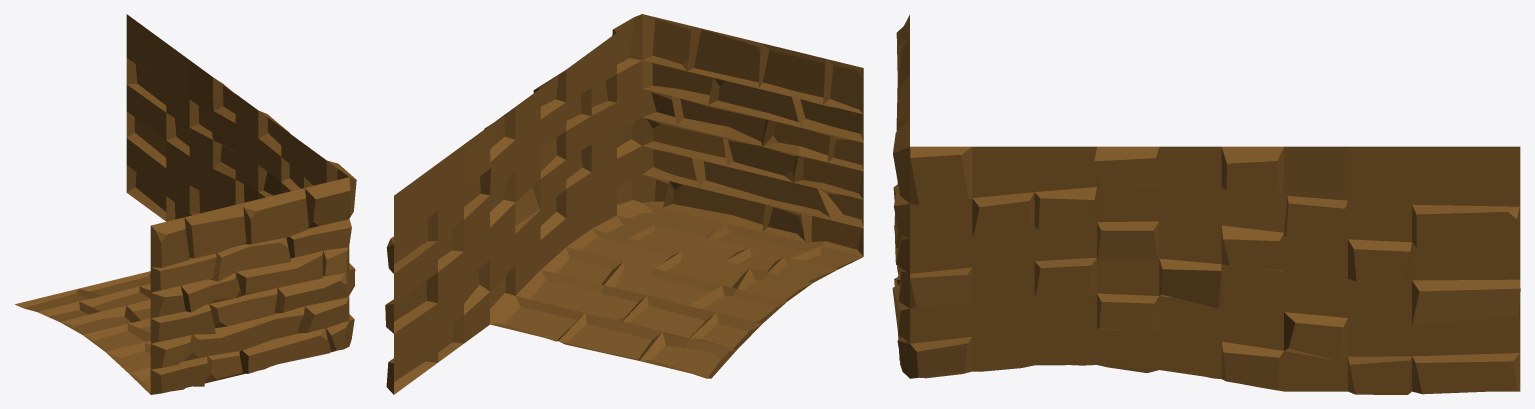
File: Cave_Roof03.fbx
3 renders of one model, left to right at view 1: azimuth 30°, elevation 25°; view 2: azimuth 150°, elevation 25°; view 3: azimuth 270°, elevation 25°, orthographic. The views are drawn at different scales.
Parts seen in each view (by area): view 1: Cave_Roof01.006; view 2: Cave_Roof01.006; view 3: Cave_Roof01.006.
Boxes of the visible parts, x1=… form: Cave_Roof01.006: x1=15, y1=14, x2=356, y2=394; Cave_Roof01.006: x1=385, y1=14, x2=863, y2=394; Cave_Roof01.006: x1=892, y1=15, x2=1520, y2=394.
Bounding box in the file's own units: 2715 × 2269 × 5169.
